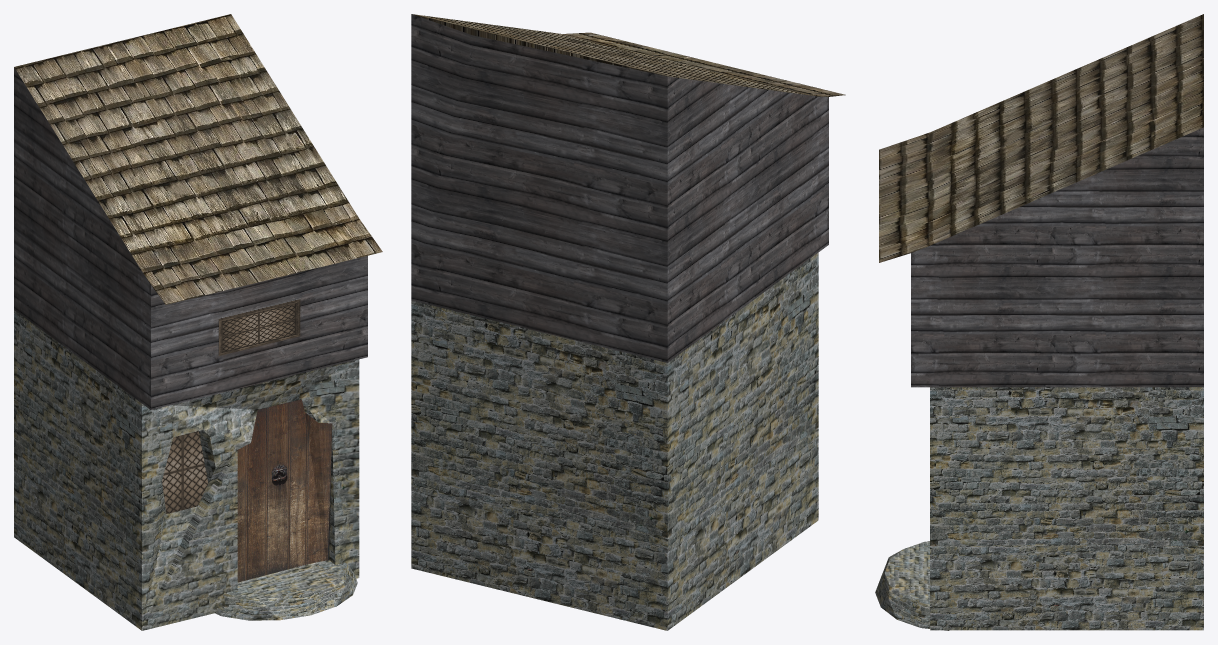
File: v3_house4_LOD2.dae
The picture shows the model from 3 angles, left to right: view 1: azimuth 30°, elevation 25°; view 2: azimuth 150°, elevation 25°; view 3: azimuth 270°, elevation 25°; orthographic projection. The views are drawn at different scales.
Visible parts, largest first — view 1: bricks_old08, roof_01, wood_planks, doorwindow_set; view 2: bricks_old08, wood_planks, roof_01; view 3: bricks_old08, wood_planks, roof_01.
Part boxes in pixels (left/top/right/bottom): bricks_old08: left=14, top=310, right=359, bottom=630; roof_01: left=14, top=14, right=382, bottom=304; wood_planks: left=14, top=67, right=367, bottom=409; doorwindow_set: left=162, top=299, right=332, bottom=582; bricks_old08: left=411, top=252, right=818, bottom=630; wood_planks: left=411, top=14, right=828, bottom=362; roof_01: left=412, top=14, right=845, bottom=96; bricks_old08: left=875, top=387, right=1203, bottom=630; wood_planks: left=911, top=127, right=1203, bottom=387; roof_01: left=879, top=14, right=1203, bottom=262.
Bounding box in the file's own units: 2.64 × 5.47 × 3.24.
